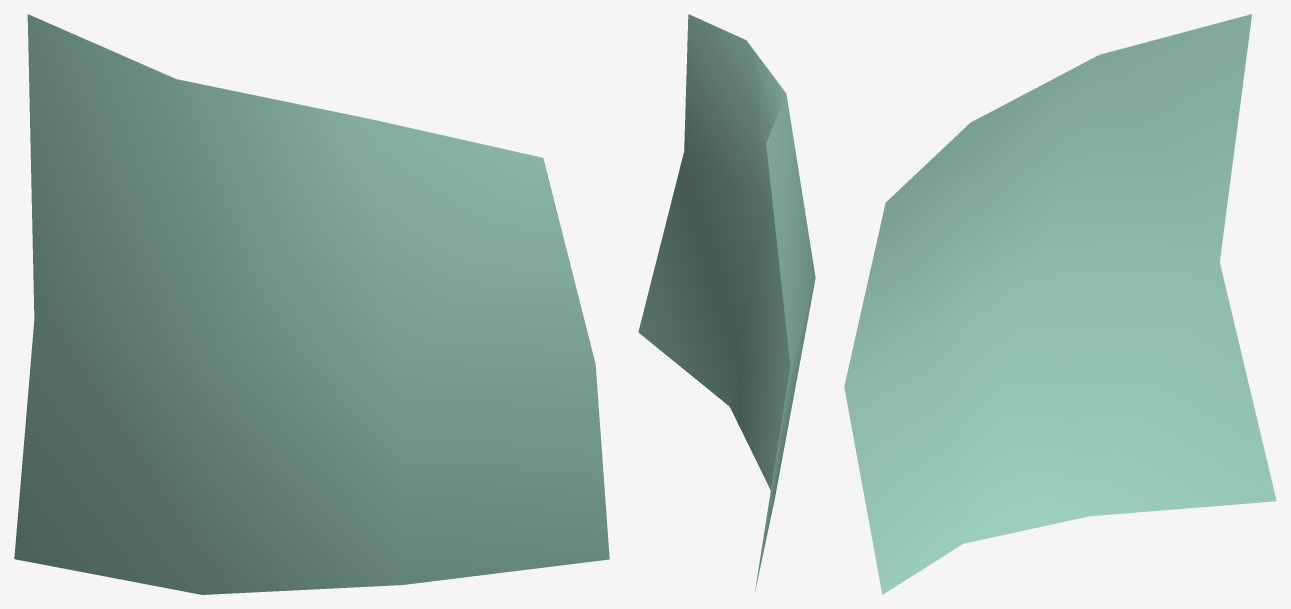
3 renders of one model, left to right at view 1: azimuth 30°, elevation 25°; view 2: azimuth 150°, elevation 25°; view 3: azimuth 270°, elevation 25°, orthographic. The views are drawn at different scales.
Parts seen in each view (by area): view 1: Object39; view 2: Object39; view 3: Object39.
Part boxes in pixels (x1,y1,x2,y2): Object39: [14, 14, 609, 594]; Object39: [638, 14, 815, 591]; Object39: [844, 14, 1276, 594].
Bounding box in the file's own units: 20322 × 28178 × 22678.
